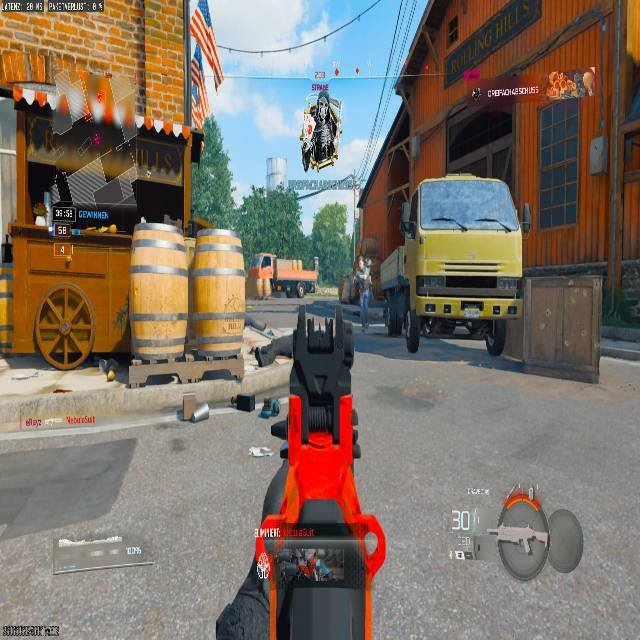player: (303, 86, 341, 169)
